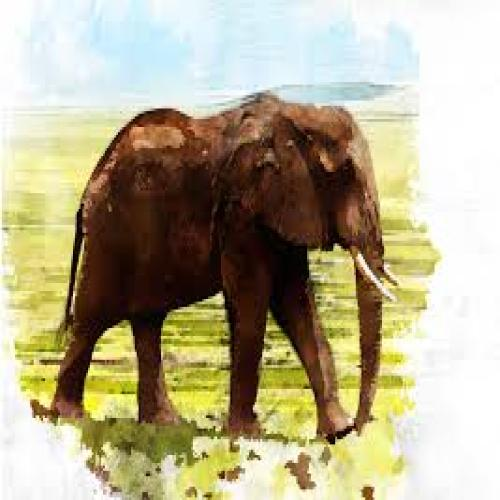asian_elephant-endangered: (48, 95, 398, 438)
